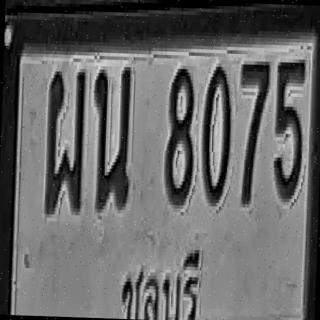A25: (90, 62, 133, 210)
A28: (44, 66, 86, 214)
N00: (200, 63, 232, 203)
N05: (273, 55, 305, 199)
N07: (236, 57, 270, 205)
N08: (163, 65, 196, 206)
P13: (116, 245, 206, 320)
